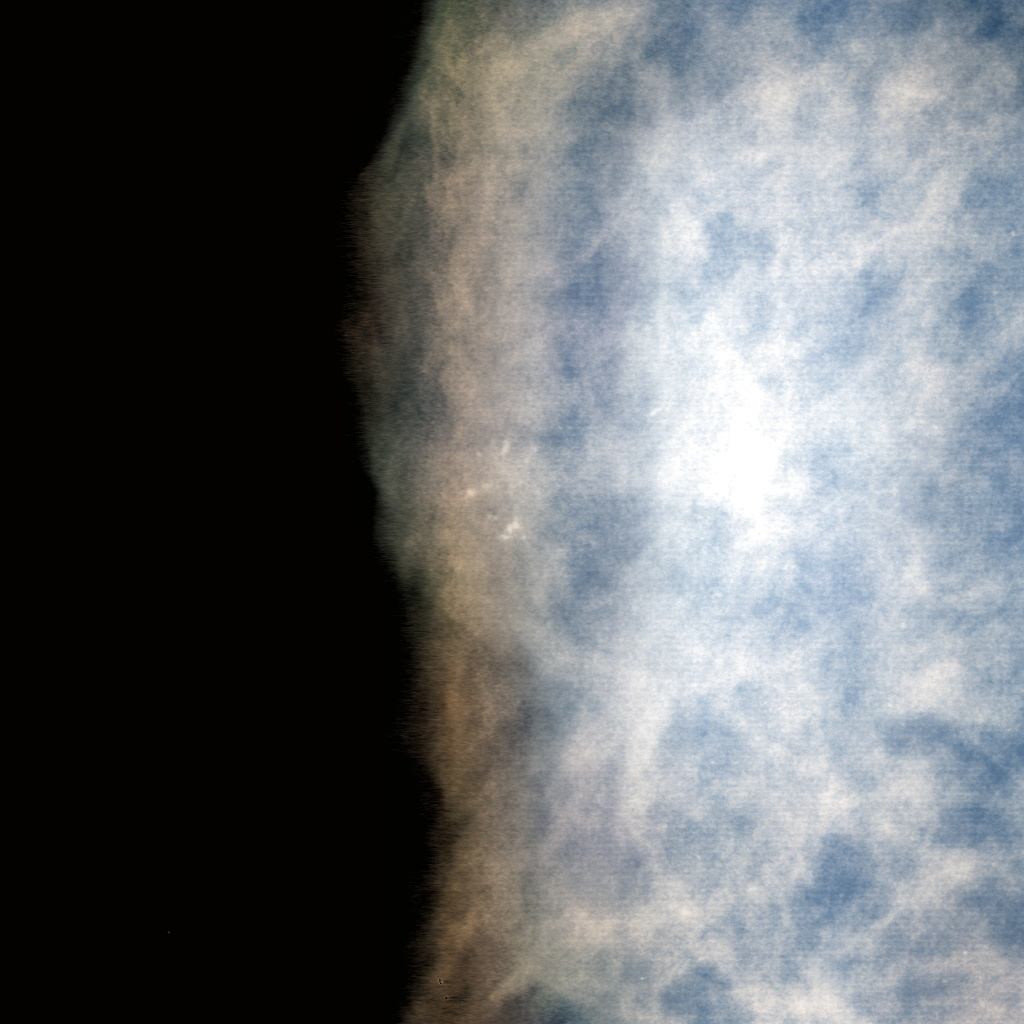tumor: (422, 434, 602, 590)
